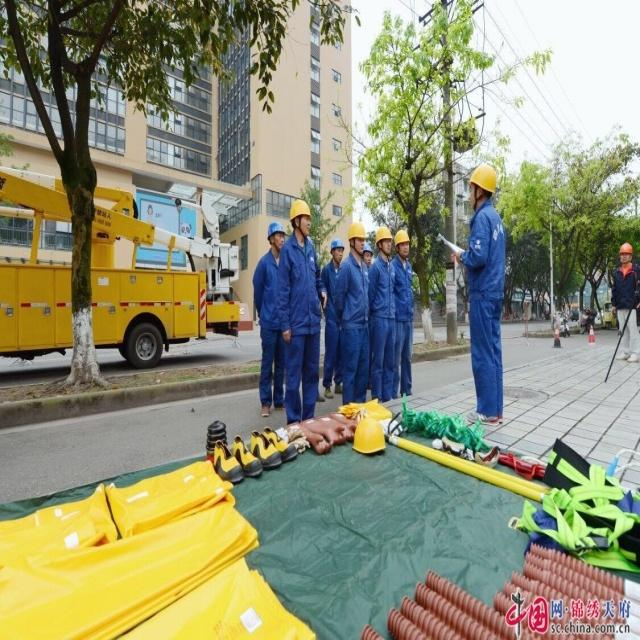helmet: (467, 217, 498, 280), (289, 265, 312, 316), (347, 294, 365, 342), (267, 295, 285, 336), (374, 303, 392, 341), (393, 305, 409, 347), (330, 316, 344, 352), (619, 323, 634, 353), (360, 323, 373, 357)
